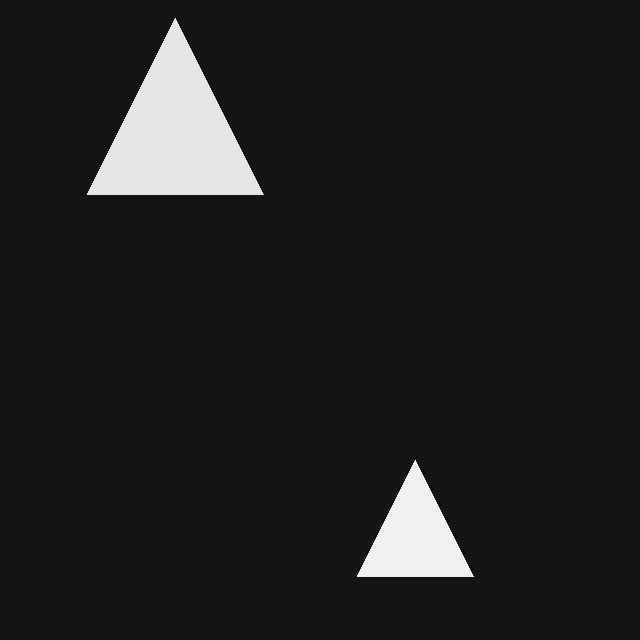triangle: (87, 18, 263, 194), (357, 460, 473, 576)
